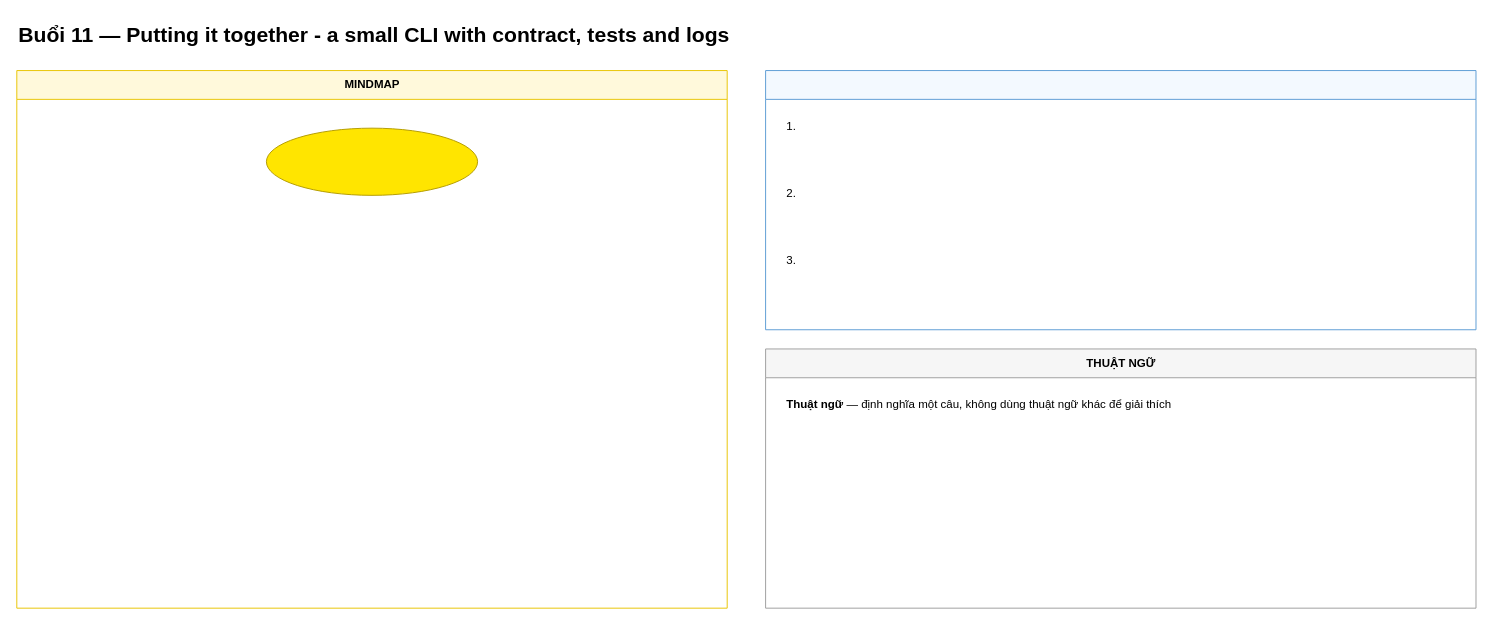
Image size: 1493x625. Some labels were removed from this diagram. The box of each missing label's shape, as (x1, y1, x2, y2) in pixels:
KEY TAKEAWAY — ba điều phải nhớ: (765, 70, 1476, 330)
Putting it together - a small CLI with contract, tests and logs: (265, 127, 478, 195)
